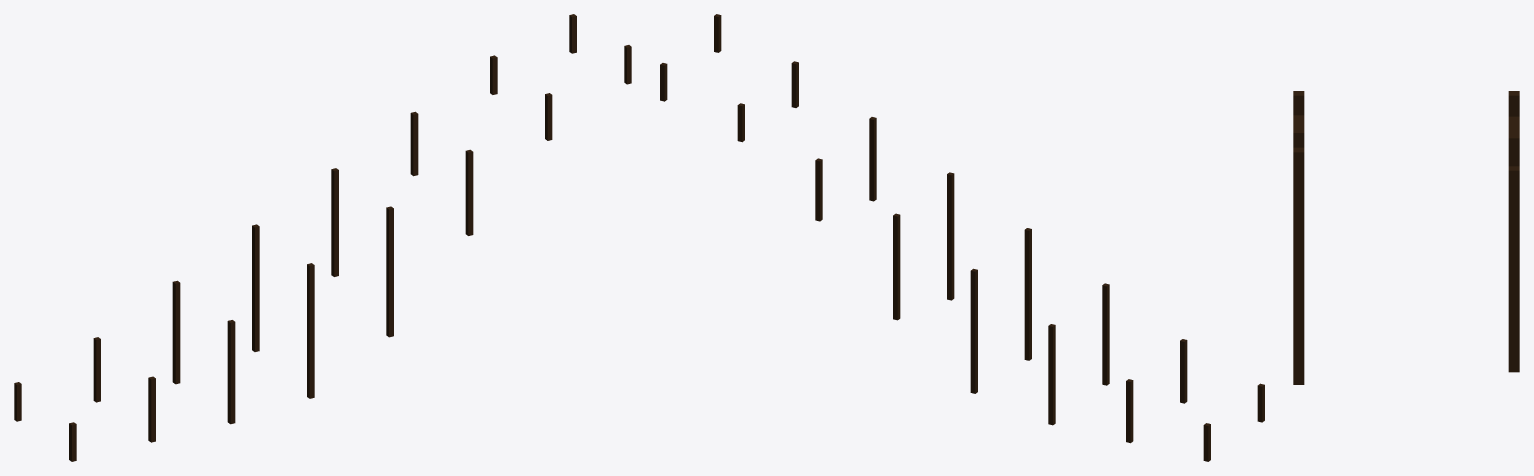
The picture shows the model from 3 angles, left to right: view 1: azimuth 30°, elevation 25°; view 2: azimuth 150°, elevation 25°; view 3: azimuth 270°, elevation 25°; orthographic projection. The views are drawn at different scales.
Parts seen in each view (by area): view 1: prototype; view 2: prototype; view 3: prototype.
Part boxes in pixels (left/top/right/bottom): prototype: left=14, top=14, right=631, bottom=461; prototype: left=660, top=14, right=1264, bottom=461; prototype: left=1293, top=91, right=1519, bottom=384.
Bounding box in the file's own units: 21.18 × 10.12 × 3.78.
